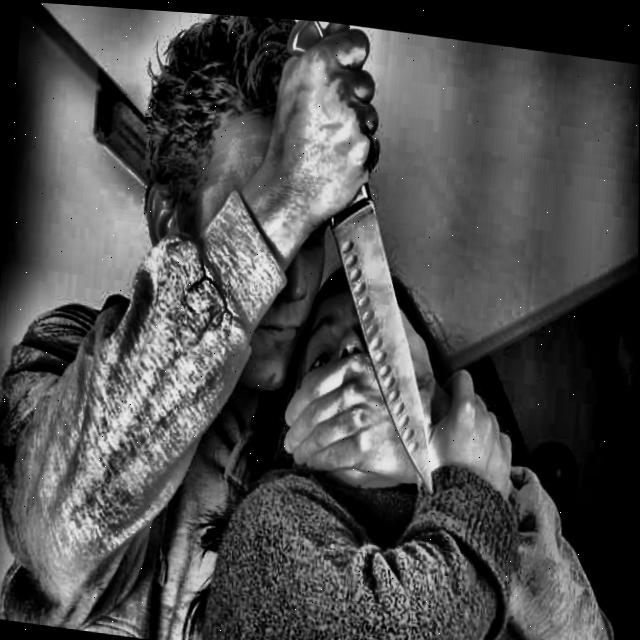pisau: (238, 16, 470, 506)
